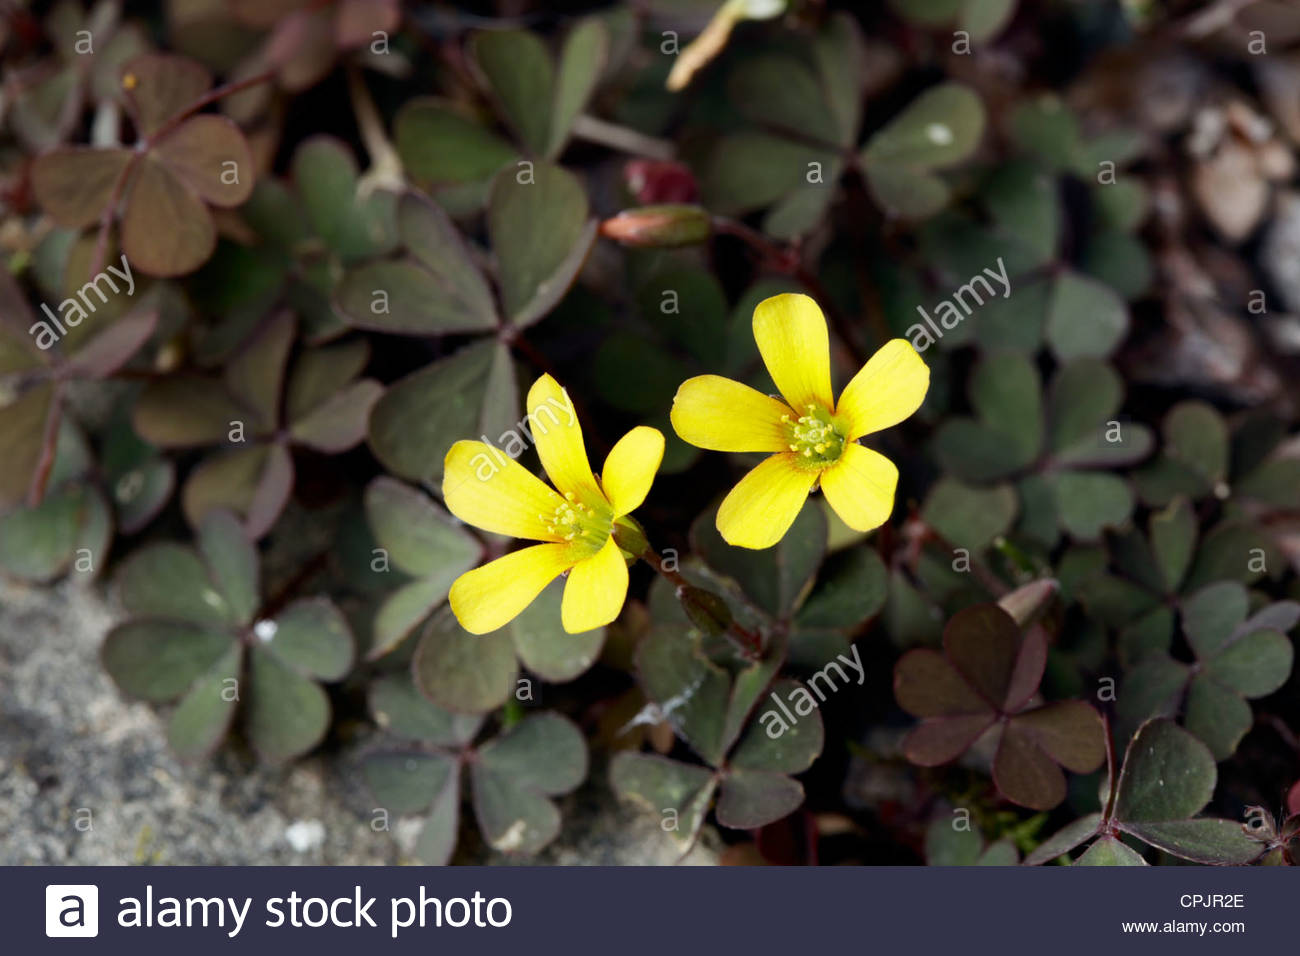oxalis: (710, 63, 1300, 916), (86, 86, 605, 798)
